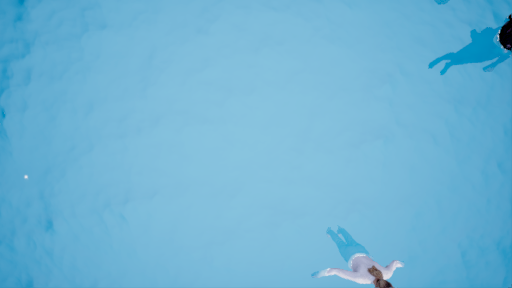person: (307, 214, 396, 284)
